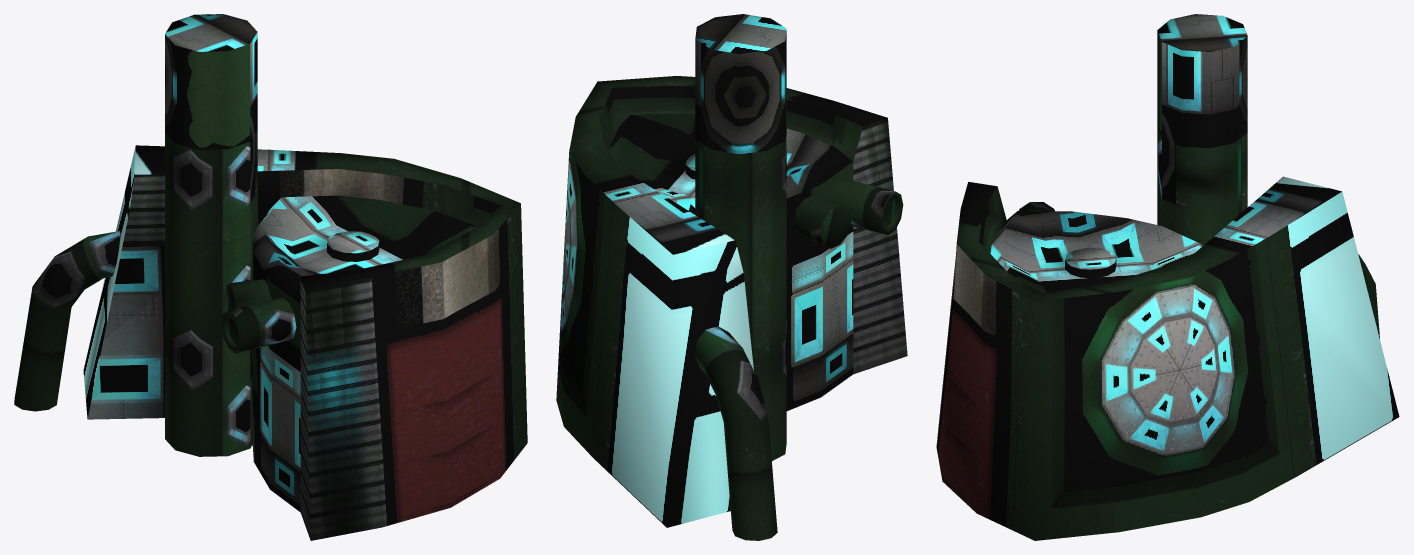
Rendered from plasma.glb.
3 renders of one model, left to right at view 1: azimuth 30°, elevation 25°; view 2: azimuth 150°, elevation 25°; view 3: azimuth 270°, elevation 25°, orthographic. The views are drawn at different scales.
Parts seen in each view (by area): view 1: Line02; view 2: Line02; view 3: Line02.
Part boxes in pixels (x1,y1,x2,y2): Line02: (14,14,527,540); Line02: (556,14,907,540); Line02: (936,14,1399,540).
Bounding box in the file's own units: 114 × 128 × 135.
Materials: 1 (1 with a texture image).
